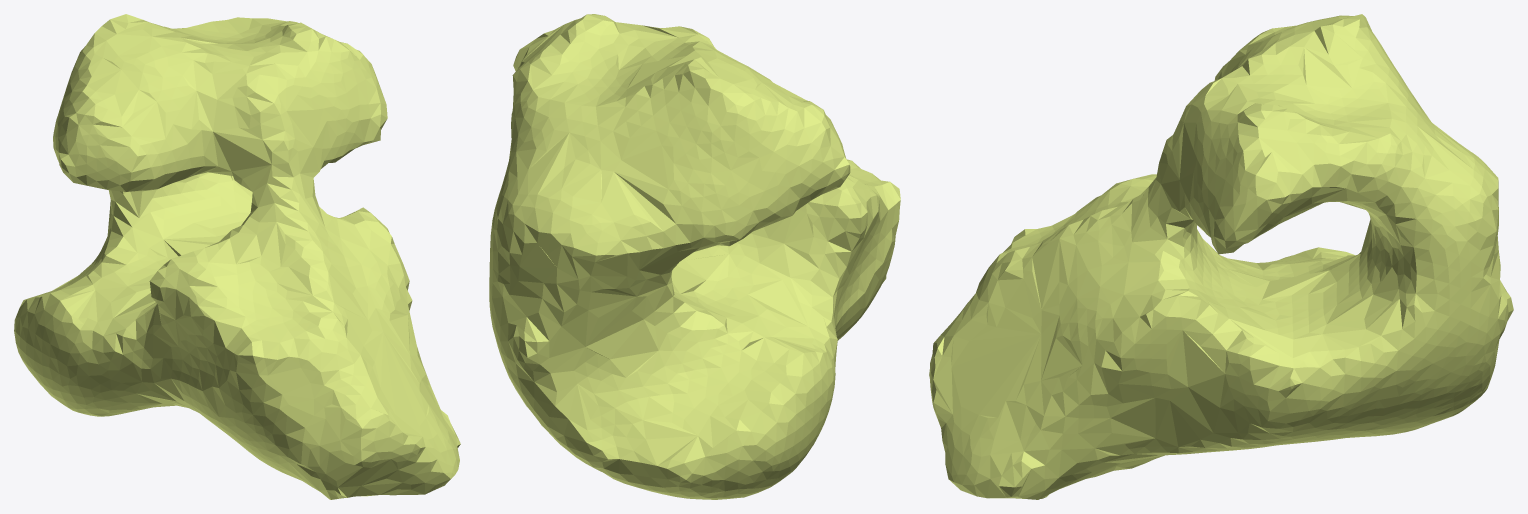
Rendered from Model_185_RH__Bed_nucleus_of_the_stria_terminalis_(ST).obj.
3 renders of one model, left to right at view 1: azimuth 30°, elevation 25°; view 2: azimuth 150°, elevation 25°; view 3: azimuth 270°, elevation 25°, orthographic. The views are drawn at different scales.
Bounding box in the file's own units: 2.16 × 2.57 × 3.27.
